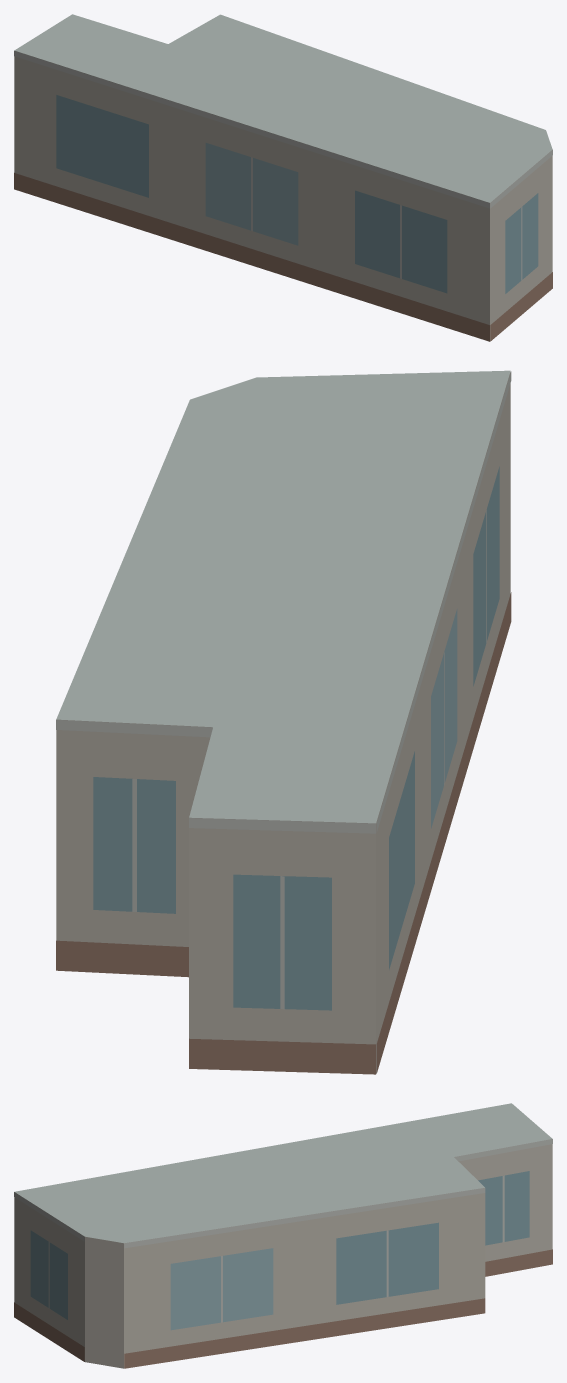
File: survey-upis-32459361.glb
3 views of the same model, one above another, from view 1: azimuth 30°, elevation 25°; view 2: azimuth 150°, elevation 25°; view 3: azimuth 270°, elevation 25° (orthographic). The views are drawn at different scales.
Visible parts, largest first — view 1: survey-upis-32459361.tmp; view 2: survey-upis-32459361.tmp; view 3: survey-upis-32459361.tmp.
Boxes of the visible parts, bbox=[...] form: survey-upis-32459361.tmp: bbox=[14, 14, 552, 341]; survey-upis-32459361.tmp: bbox=[56, 370, 511, 1074]; survey-upis-32459361.tmp: bbox=[14, 1103, 552, 1368].
Size of the model in its own units: 7.31 by 3.05 by 11.88.
